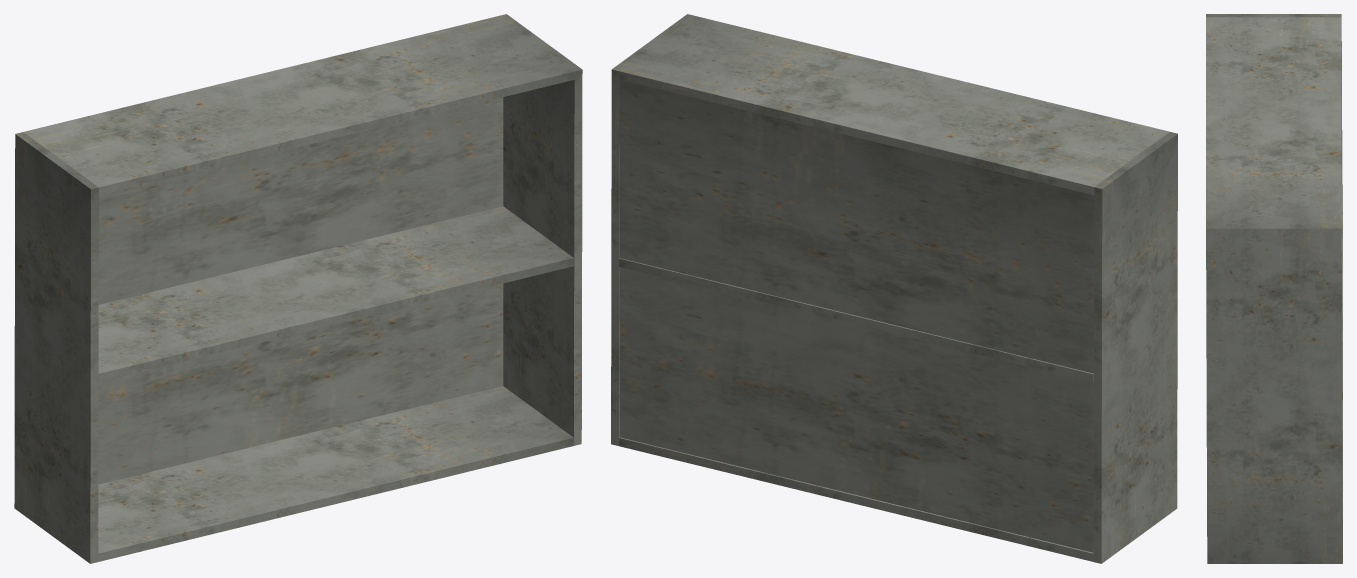
The model's file is cabin04b.fbx.
3 renders of one model, left to right at view 1: azimuth 30°, elevation 25°; view 2: azimuth 150°, elevation 25°; view 3: azimuth 270°, elevation 25°, orthographic. The views are drawn at different scales.
Parts seen in each view (by area): view 1: cabin04b; view 2: cabin04b; view 3: cabin04b.
Boxes of the visible parts, x1,y1,x2,y2 form: cabin04b: (14, 14, 582, 563); cabin04b: (611, 14, 1177, 563); cabin04b: (1206, 14, 1342, 563).
Bounding box in the file's own units: 124 × 90.41 × 33.45.
